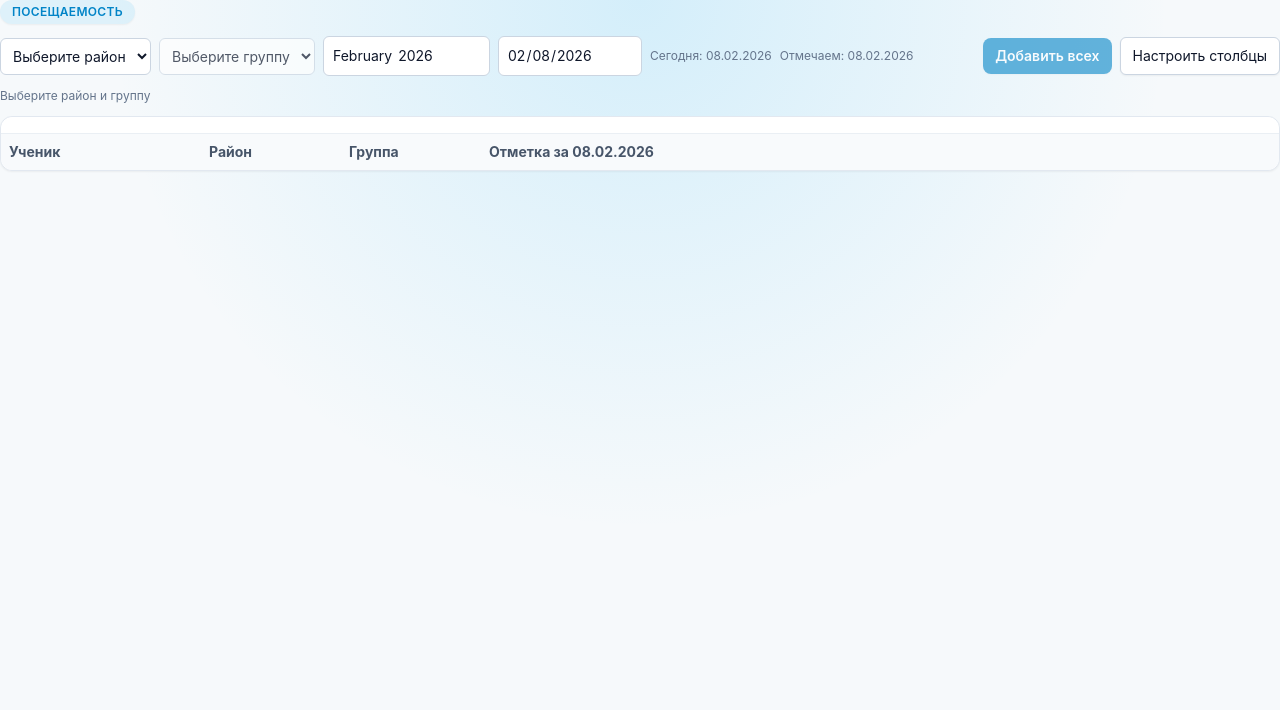
Test: AttendanceTab binds the first group after picking an area
Select "Area1" in the 1st dropdown: (76, 56) [0,38,151,74]
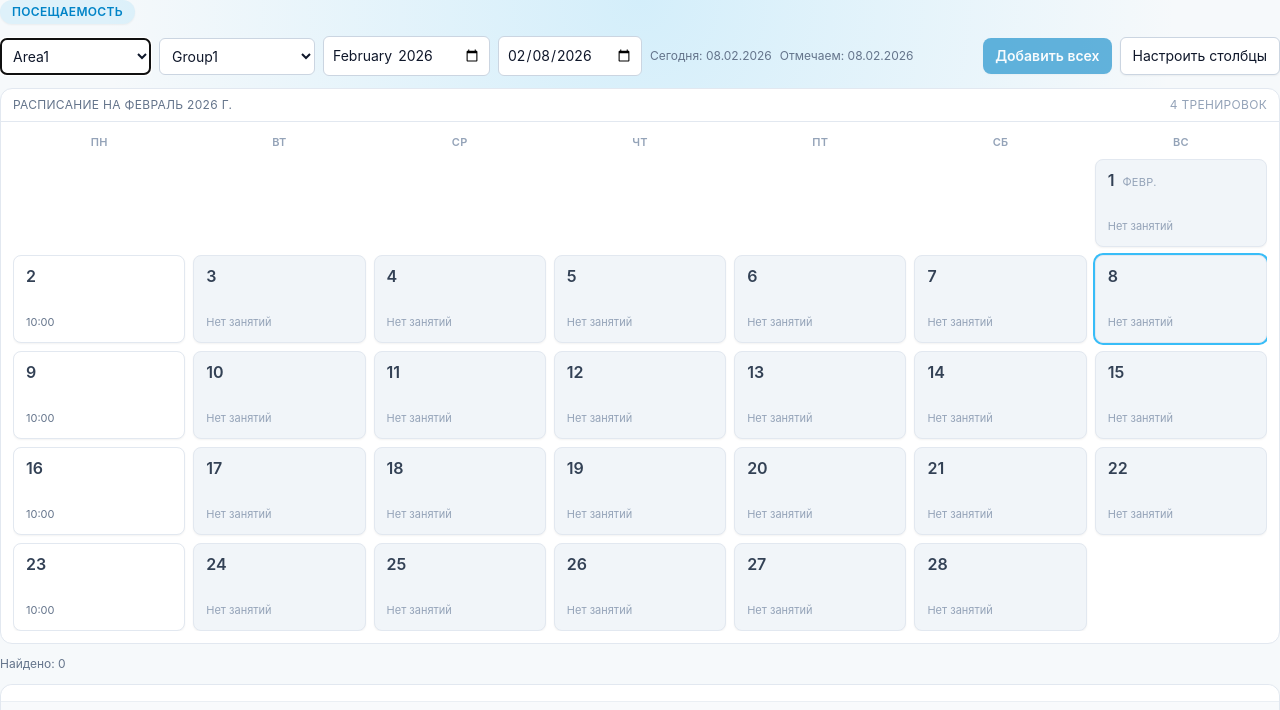
Check: the 2nd dropdown shows "Group1", box [159,38,315,74]
